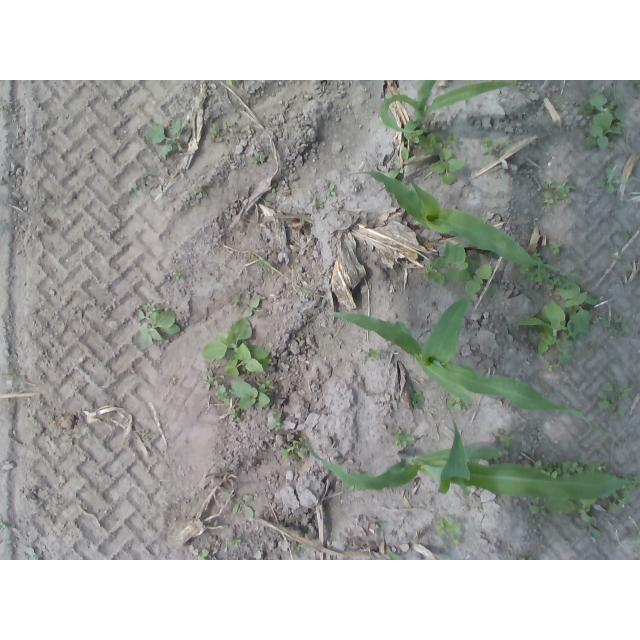Maize: (330, 292, 623, 444), (302, 412, 640, 507), (345, 170, 579, 280), (379, 80, 516, 137)
Weeds: (508, 299, 595, 374), (422, 241, 499, 300), (520, 250, 599, 306), (200, 317, 273, 376), (408, 127, 465, 187), (579, 93, 626, 151), (135, 302, 181, 351), (523, 459, 607, 477), (228, 378, 275, 410), (537, 178, 576, 211), (147, 120, 181, 157), (596, 381, 633, 415), (528, 495, 577, 518), (578, 496, 603, 536), (435, 515, 462, 547), (478, 136, 512, 161), (595, 168, 629, 193), (230, 291, 261, 318), (209, 120, 252, 138), (387, 146, 409, 179), (599, 313, 625, 340), (231, 494, 256, 518), (279, 438, 305, 461), (607, 488, 631, 512), (445, 393, 470, 412), (392, 318, 415, 338), (347, 470, 366, 493), (493, 429, 515, 447), (393, 429, 415, 447), (214, 385, 231, 406), (620, 474, 640, 491), (251, 253, 270, 268), (65, 434, 84, 447), (410, 391, 427, 405), (193, 546, 210, 560), (269, 412, 283, 429), (547, 239, 561, 255), (385, 548, 403, 560), (202, 375, 218, 388), (364, 348, 381, 360), (227, 407, 241, 421), (172, 269, 185, 284), (191, 186, 205, 199), (528, 519, 544, 530), (129, 185, 141, 199), (227, 537, 241, 549), (250, 153, 264, 164), (325, 184, 335, 197), (290, 542, 304, 551), (611, 251, 622, 262), (622, 232, 634, 241), (270, 183, 278, 194), (316, 200, 325, 209), (143, 432, 153, 440), (630, 532, 640, 540), (226, 155, 234, 164), (517, 556, 535, 560), (225, 80, 239, 85), (633, 80, 640, 88)
